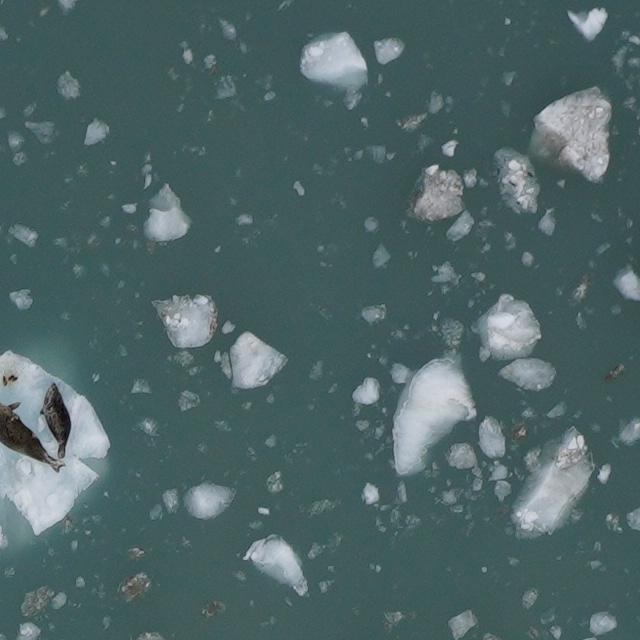seal: (0, 399, 69, 477), (36, 380, 74, 463)
